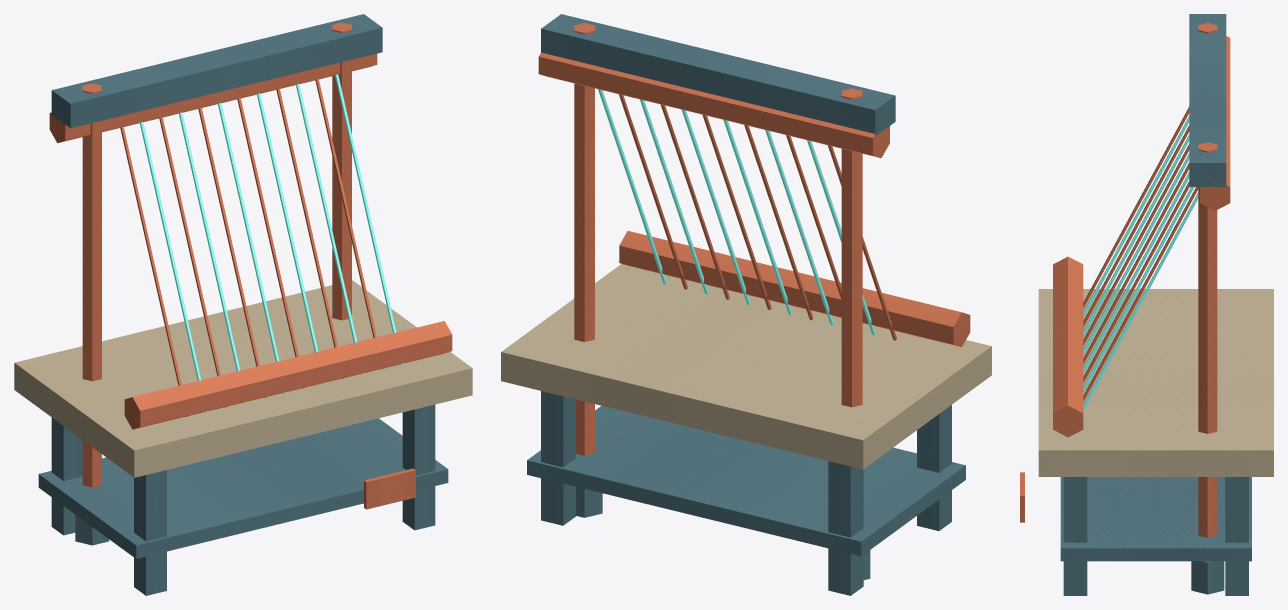
The model's file is atlas100-s041-a02.lod1.glb.
The picture shows the model from 3 angles, left to right: view 1: azimuth 30°, elevation 25°; view 2: azimuth 150°, elevation 25°; view 3: azimuth 270°, elevation 25°; orthographic projection. The views are drawn at different scales.
Parts seen in each view (by area): view 1: atlas100-s041-a02:part-004, atlas100-s041-a02:part-005, atlas100-s041-a02:part-010, atlas100-s041-a02:part-024, atlas100-s041-a02:part-006, atlas100-s041-a02:part-008, atlas100-s041-a02:part-025, atlas100-s041-a02:part-001, atlas100-s041-a02:part-003, atlas100-s041-a02:part-000, atlas100-s041-a02:part-026, atlas100-s041-a02:part-014 (+11 smaller); view 2: atlas100-s041-a02:part-004, atlas100-s041-a02:part-005, atlas100-s041-a02:part-010, atlas100-s041-a02:part-024, atlas100-s041-a02:part-025, atlas100-s041-a02:part-008, atlas100-s041-a02:part-006, atlas100-s041-a02:part-000, atlas100-s041-a02:part-002, atlas100-s041-a02:part-001, atlas100-s041-a02:part-022, atlas100-s041-a02:part-015 (+11 smaller); view 3: atlas100-s041-a02:part-004, atlas100-s041-a02:part-005, atlas100-s041-a02:part-010, atlas100-s041-a02:part-008, atlas100-s041-a02:part-024, atlas100-s041-a02:part-003, atlas100-s041-a02:part-002, atlas100-s041-a02:part-025, atlas100-s041-a02:part-009, atlas100-s041-a02:part-023, atlas100-s041-a02:part-022, atlas100-s041-a02:part-021 (+9 smaller).
Boxes of the visible parts, box(x1,y1,x2,y2) form: atlas100-s041-a02:part-004: box(14, 280, 472, 477); atlas100-s041-a02:part-005: box(38, 418, 448, 558); atlas100-s041-a02:part-010: box(51, 14, 382, 128); atlas100-s041-a02:part-024: box(124, 321, 452, 429); atlas100-s041-a02:part-006: box(82, 83, 101, 487); atlas100-s041-a02:part-008: box(332, 22, 351, 320); atlas100-s041-a02:part-025: box(49, 53, 377, 143); atlas100-s041-a02:part-001: box(134, 470, 166, 595); atlas100-s041-a02:part-003: box(402, 404, 435, 530); atlas100-s041-a02:part-000: box(51, 417, 82, 535); atlas100-s041-a02:part-026: box(364, 468, 415, 509); atlas100-s041-a02:part-014: box(159, 117, 227, 407); atlas100-s041-a02:part-004: box(501, 264, 991, 469); atlas100-s041-a02:part-005: box(527, 405, 965, 556); atlas100-s041-a02:part-010: box(541, 14, 895, 136); atlas100-s041-a02:part-024: box(619, 231, 970, 347); atlas100-s041-a02:part-025: box(538, 52, 889, 158); atlas100-s041-a02:part-008: box(574, 23, 594, 455); atlas100-s041-a02:part-006: box(841, 88, 862, 407); atlas100-s041-a02:part-000: box(828, 461, 863, 595); atlas100-s041-a02:part-002: box(541, 391, 575, 525); atlas100-s041-a02:part-001: box(917, 405, 951, 530); atlas100-s041-a02:part-022: box(619, 94, 687, 289); atlas100-s041-a02:part-015: box(765, 130, 834, 325); atlas100-s041-a02:part-004: box(1038, 289, 1273, 476); atlas100-s041-a02:part-005: box(1060, 477, 1251, 561); atlas100-s041-a02:part-010: box(1189, 14, 1226, 186); atlas100-s041-a02:part-008: box(1198, 142, 1217, 537); atlas100-s041-a02:part-024: box(1053, 256, 1083, 437); atlas100-s041-a02:part-003: box(1063, 477, 1087, 595); atlas100-s041-a02:part-002: box(1225, 477, 1248, 595); atlas100-s041-a02:part-025: box(1200, 36, 1230, 210); atlas100-s041-a02:part-009: box(1191, 561, 1224, 594); atlas100-s041-a02:part-023: box(1083, 193, 1198, 410); atlas100-s041-a02:part-022: box(1083, 187, 1198, 401); atlas100-s041-a02:part-021: box(1083, 187, 1194, 392).
Size of the model in its own units: 2.6 by 3.3 by 1.73.
4 materials, 4 textured.
